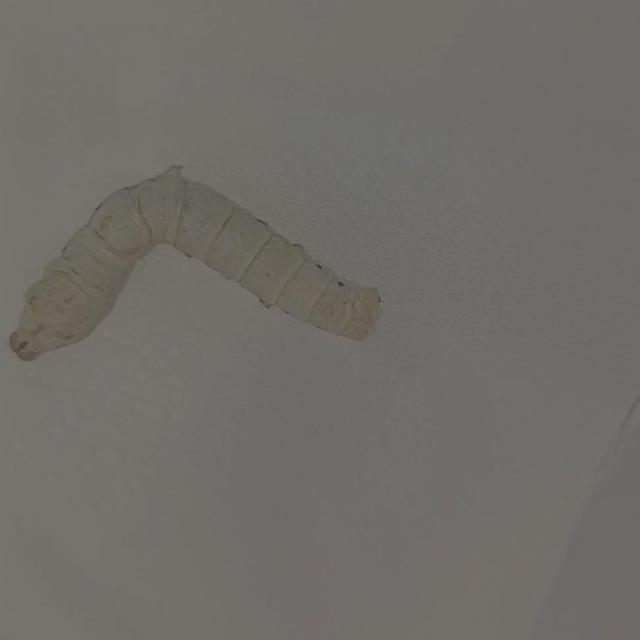Healthy: (7, 145, 397, 385)
